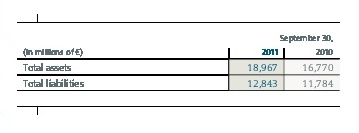table: (0, 0, 359, 133)
